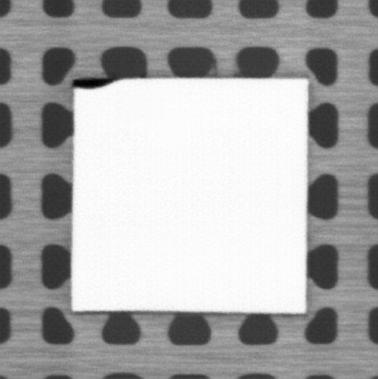DIE_BROKEN: (70, 76, 117, 90)
